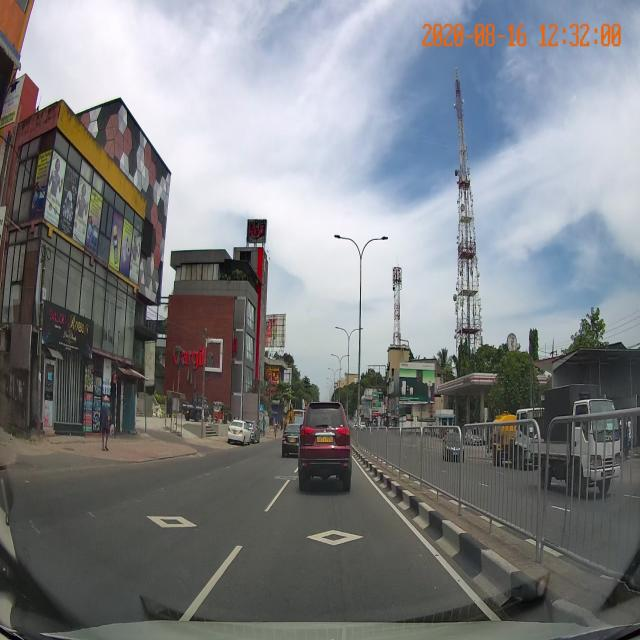Romb: (306, 529, 366, 547), (146, 515, 199, 528)
